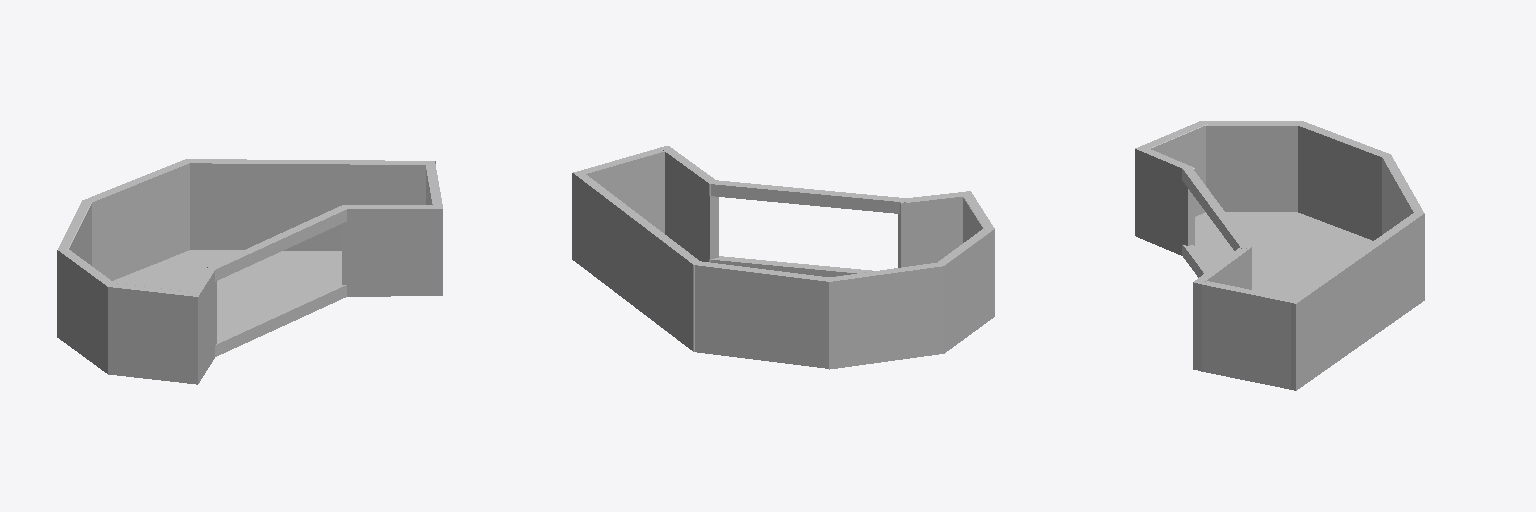
The model's file is area_tortugas.obj.
3 renders of one model, left to right at view 1: azimuth 30°, elevation 25°; view 2: azimuth 150°, elevation 25°; view 3: azimuth 270°, elevation 25°, orthographic.
Parts seen in each view (by area): view 1: polySurface6 area_tortugas:Plane002; view 2: polySurface6 area_tortugas:Plane002; view 3: polySurface6 area_tortugas:Plane002.
Boxes of the visible parts, <box> form: polySurface6 area_tortugas:Plane002: <box>57,159,442,384</box>; polySurface6 area_tortugas:Plane002: <box>572,146,994,369</box>; polySurface6 area_tortugas:Plane002: <box>1135,121,1424,390</box>.
Bounding box in the file's own units: 50.51 × 11.29 × 33.82.